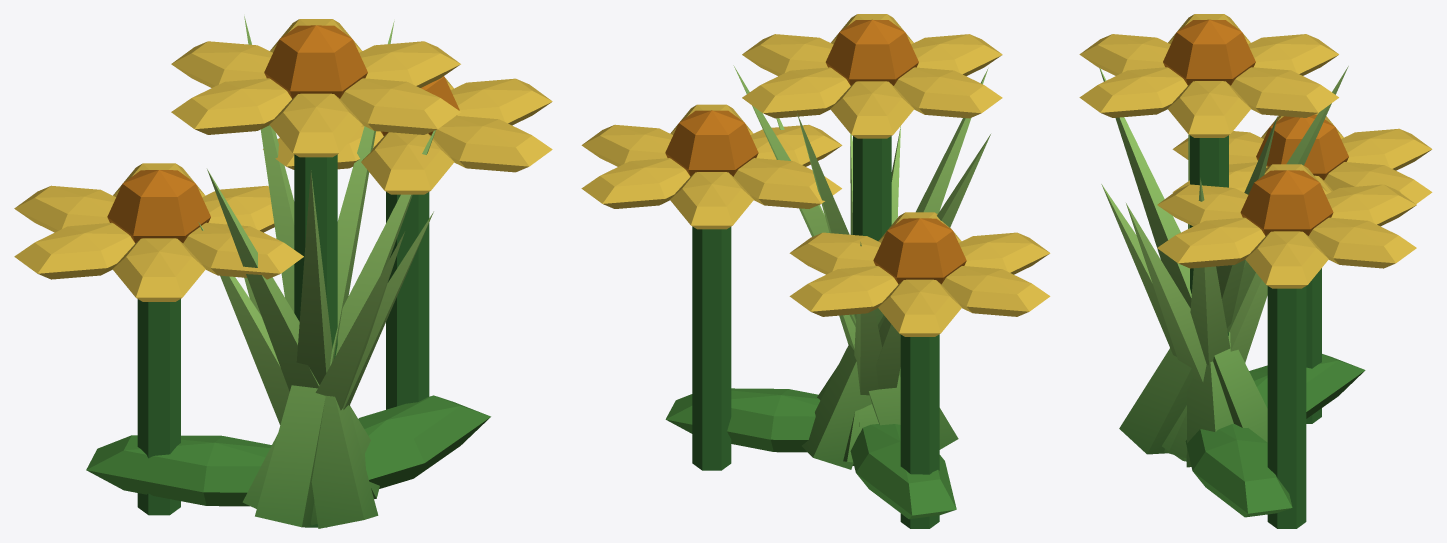
The model's file is flores.glb.
The picture shows the model from 3 angles, left to right: view 1: azimuth 30°, elevation 25°; view 2: azimuth 150°, elevation 25°; view 3: azimuth 270°, elevation 25°; orthographic projection. The views are drawn at different scales.
Visible parts, largest first — view 1: Flores amarillas, Mata de pasto; view 2: Flores amarillas, Mata de pasto; view 3: Flores amarillas, Mata de pasto.
Part boxes in pixels (x1=…): Flores amarillas: x1=14, y1=19, x2=552, y2=527; Mata de pasto: x1=198, y1=16, x2=435, y2=528; Flores amarillas: x1=581, y1=14, x2=1050, y2=528; Mata de pasto: x1=733, y1=65, x2=990, y2=469; Flores amarillas: x1=1079, y1=14, x2=1432, y2=528; Mata de pasto: x1=1099, y1=66, x2=1348, y2=467.
Bounding box in the file's own units: 0.6759 × 0.63 × 0.4552.
